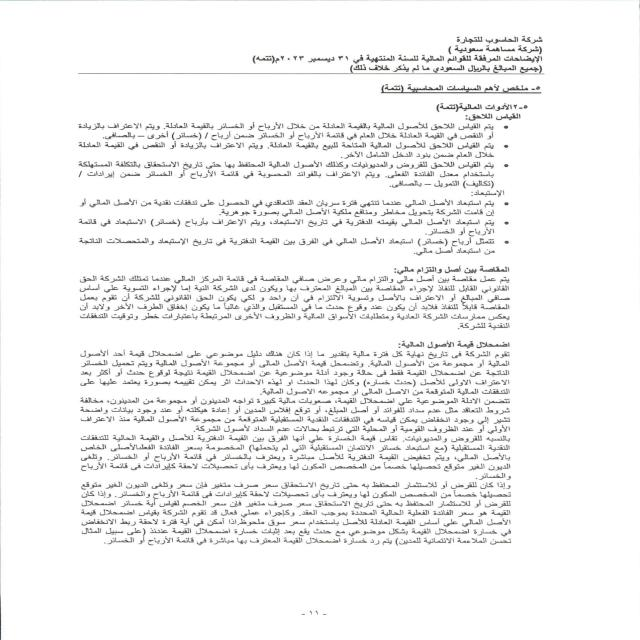notes: (249, 53, 547, 64)
text: (52, 79, 561, 558)
